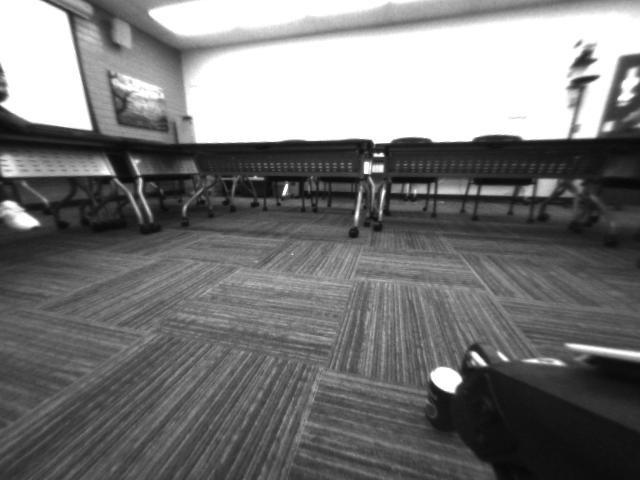can: (419, 355, 459, 434)
